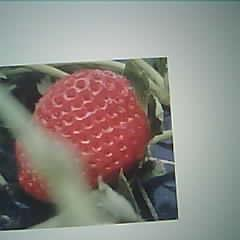straw-ripe: (16, 70, 149, 197)
